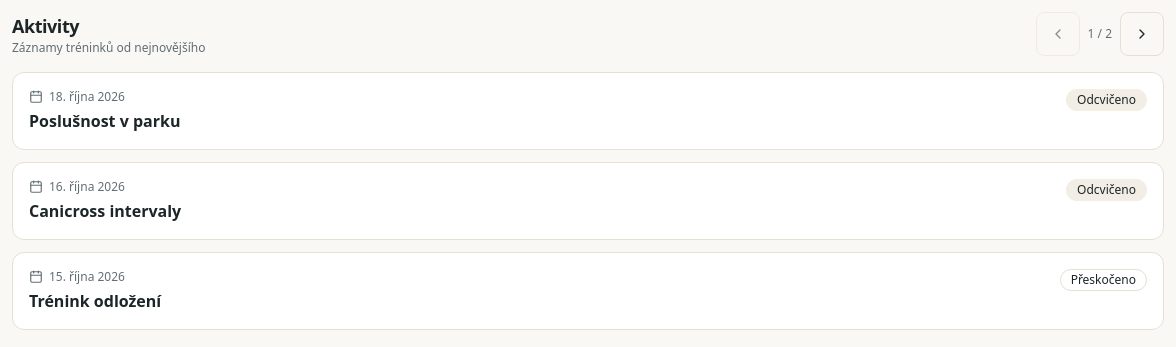
Test: DogActivitiesSection › paginates activities page by page
Expected: the heading "Poslušnost v parku" is shown, [29, 109, 180, 133]
Expected: the text "1 / 2" is shown, [1088, 26, 1112, 42]
// Click next page
Step 1. Click the button named "další stránka aktivit" → (1142, 34), box [1120, 12, 1164, 56]
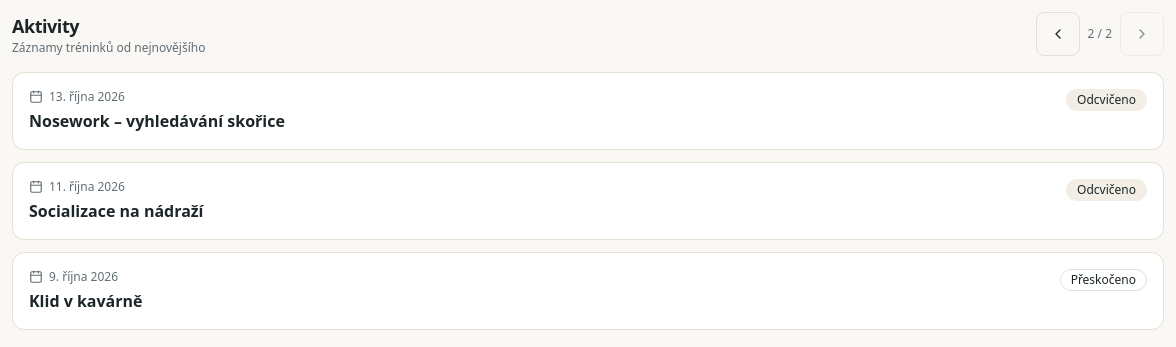
Expected: the text "2 / 2" is shown, [1088, 26, 1112, 42]
Expected: the heading "Nosework – vyhledávání skořice" is shown, [29, 109, 285, 133]
